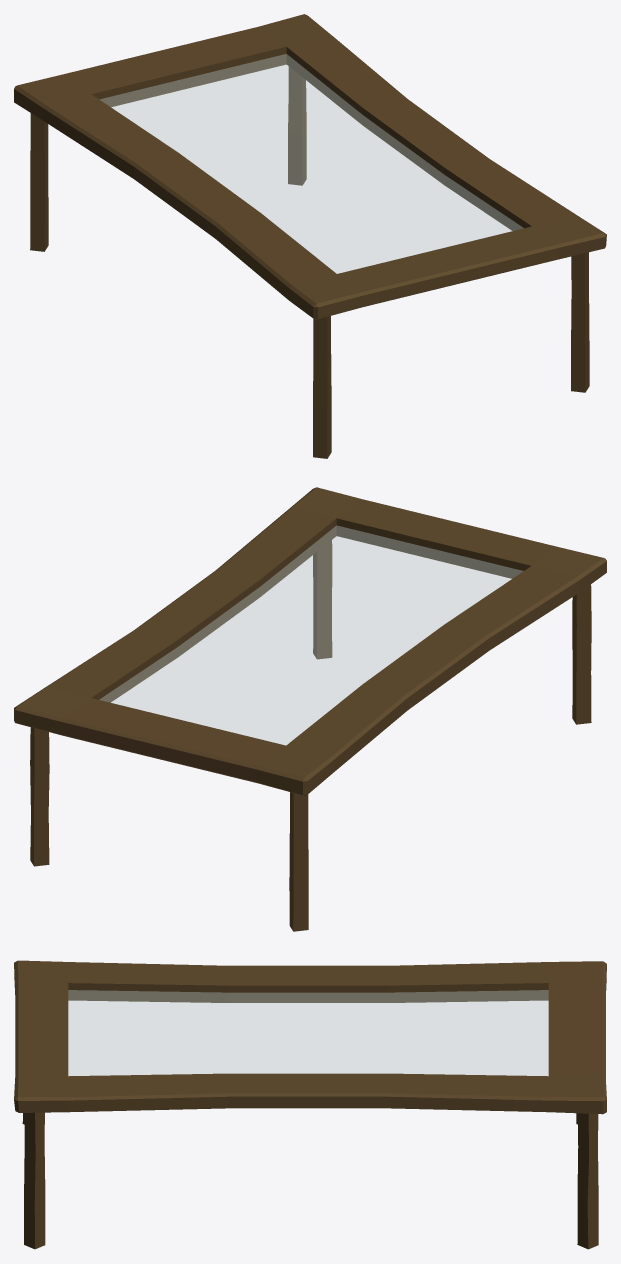
The model's file is CoffeTable01.fbx.
3 renders of one model, top to bottom at view 1: azimuth 30°, elevation 25°; view 2: azimuth 150°, elevation 25°; view 3: azimuth 270°, elevation 25°, orthographic. The views are drawn at different scales.
Visible parts, largest first — view 1: CoffeTable01; view 2: CoffeTable01; view 3: CoffeTable01.
Boxes of the visible parts, x1,y1,x2,y2 form: CoffeTable01: (14, 14, 606, 458); CoffeTable01: (14, 487, 606, 931); CoffeTable01: (14, 960, 606, 1249).
Bounding box in the file's own units: 87.87 × 46.01 × 157.
